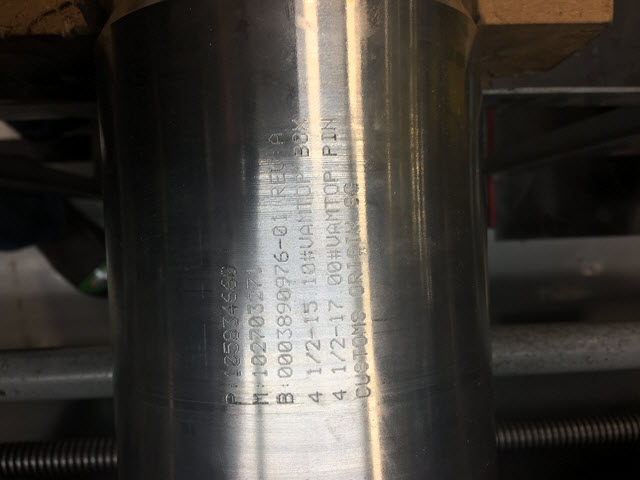character: (221, 391, 249, 407), (304, 389, 326, 407), (316, 114, 339, 131), (218, 277, 240, 294), (320, 167, 342, 183), (217, 263, 240, 278), (250, 391, 272, 406), (274, 391, 296, 406), (302, 350, 324, 365), (247, 313, 265, 331), (304, 365, 324, 381), (326, 297, 347, 312), (290, 117, 311, 132), (291, 144, 312, 159), (288, 132, 310, 146), (267, 129, 285, 146), (275, 326, 294, 342), (300, 325, 319, 341), (328, 336, 347, 352), (273, 275, 293, 290), (302, 338, 322, 353), (297, 248, 317, 263), (221, 353, 242, 367), (220, 303, 241, 317), (245, 301, 266, 315), (276, 364, 294, 380), (302, 299, 320, 315), (218, 291, 240, 304), (325, 323, 347, 336), (320, 183, 342, 196), (245, 275, 264, 290), (245, 289, 265, 303), (245, 264, 265, 278), (271, 250, 291, 264), (329, 388, 349, 402), (324, 260, 344, 274), (219, 316, 240, 329), (298, 275, 319, 288), (250, 352, 268, 367), (276, 313, 294, 328), (325, 221, 343, 236), (222, 341, 241, 355), (222, 328, 241, 342), (249, 340, 268, 354), (271, 236, 290, 250), (320, 131, 339, 145), (221, 367, 243, 379), (327, 311, 347, 324), (323, 208, 343, 221), (320, 145, 340, 158), (247, 328, 268, 340), (273, 263, 291, 277), (269, 225, 290, 237), (297, 236, 315, 250), (275, 302, 294, 315), (328, 350, 347, 363), (324, 235, 343, 248), (297, 223, 316, 236), (300, 315, 320, 327), (324, 274, 344, 286), (324, 248, 344, 260), (276, 340, 293, 354), (275, 288, 292, 302), (300, 262, 317, 276), (276, 353, 294, 366), (329, 363, 347, 376), (323, 196, 342, 208), (252, 368, 269, 378)
